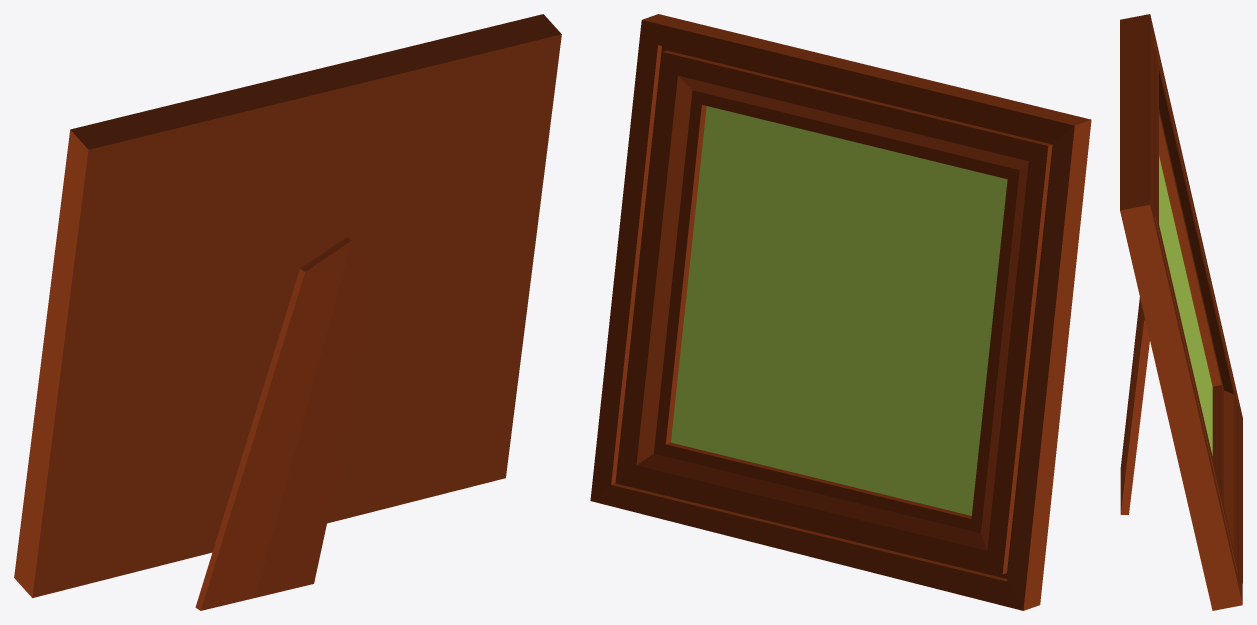
Rendered from Picture Frame 6.fbx.
3 views of the same model, side by side, from view 1: azimuth 30°, elevation 25°; view 2: azimuth 150°, elevation 25°; view 3: azimuth 270°, elevation 25° (orthographic). The views are drawn at different scales.
Parts seen in each view (by area): view 1: Node 0; view 2: Node 0; view 3: Node 0.
Boxes of the visible parts, x1=… form: Node 0: x1=14, y1=14, x2=561, y2=610; Node 0: x1=590, y1=14, x2=1091, y2=610; Node 0: x1=1120, y1=14, x2=1242, y2=610.
Size of the model in its own units: 0.0801 by 0.2945 by 0.2938.
